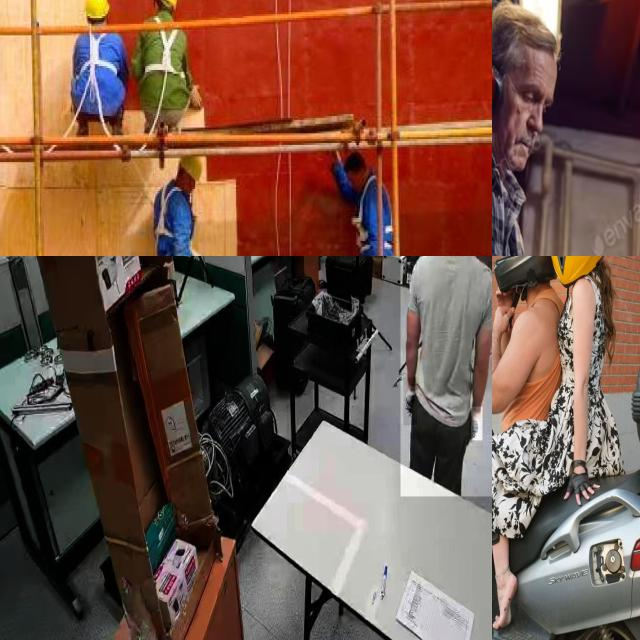Barefoots: (492, 571, 518, 630)
Ear-protection: (492, 0, 565, 176)
Harness: (77, 32, 117, 118), (144, 29, 186, 88)
No_Glasses: (517, 68, 553, 119)
hand_glove: (403, 378, 418, 427), (471, 407, 483, 441)
person: (400, 256, 492, 497)
